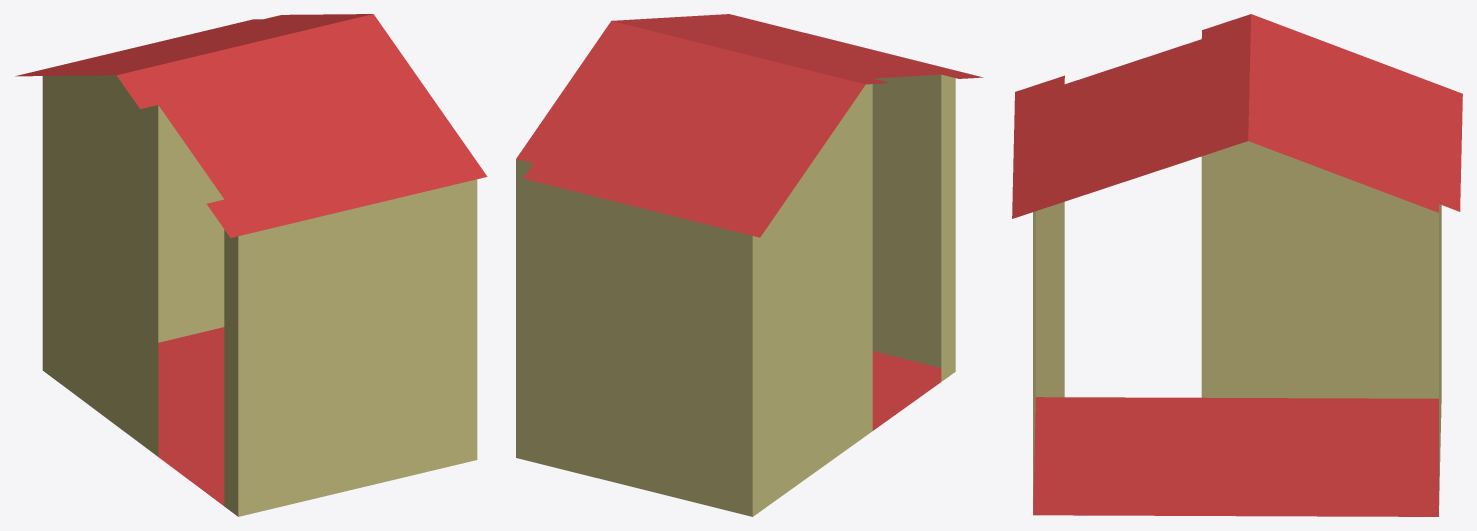
3 views of the same model, side by side, from view 1: azimuth 30°, elevation 25°; view 2: azimuth 150°, elevation 25°; view 3: azimuth 270°, elevation 25° (orthographic).
Bounding box in the file's own units: 7.24 × 10.7 × 9.83.
